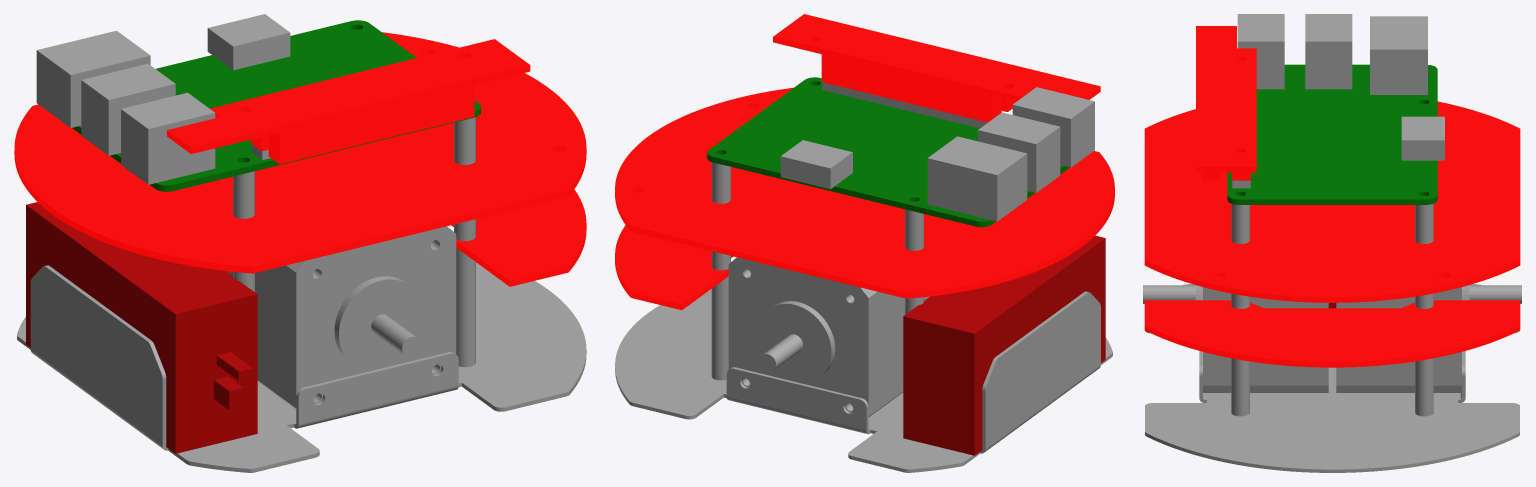
File: red_raspimouse_body.dae
3 renders of one model, left to right at view 1: azimuth 30°, elevation 25°; view 2: azimuth 150°, elevation 25°; view 3: azimuth 270°, elevation 25°, orthographic. The views are drawn at different scales.
Parts seen in each view (by area): view 1: RasPiMouse_body_gray, RasPiMouseCircuitMainBoard, RaspberryPiMouseBattery, RasPiMouseCircuitConnectorBoard, RasPiMouse_body_green, RasPiMouseCircuitSensorBoard; view 2: RasPiMouse_body_gray, RasPiMouseCircuitMainBoard, RaspberryPiMouseBattery, RasPiMouse_body_green, RasPiMouseCircuitConnectorBoard, RasPiMouseCircuitSensorBoard; view 3: RasPiMouse_body_gray, RasPiMouseCircuitMainBoard, RasPiMouse_body_green, RasPiMouseCircuitSensorBoard, RasPiMouseCircuitConnectorBoard.
Boxes of the visible parts, <box> form: RasPiMouse_body_gray: <box>17,14,586,472</box>; RasPiMouseCircuitMainBoard: <box>14,32,586,273</box>; RaspberryPiMouseBattery: <box>26,202,257,453</box>; RasPiMouseCircuitConnectorBoard: <box>167,39,530,164</box>; RasPiMouse_body_green: <box>72,20,480,191</box>; RasPiMouseCircuitSensorBoard: <box>451,189,586,286</box>; RasPiMouse_body_gray: <box>615,82,1112,472</box>; RasPiMouseCircuitMainBoard: <box>615,87,1114,298</box>; RaspberryPiMouseBattery: <box>903,235,1105,455</box>; RasPiMouse_body_green: <box>707,77,1069,227</box>; RasPiMouseCircuitConnectorBoard: <box>773,14,1100,122</box>; RasPiMouseCircuitSensorBoard: <box>615,225,732,310</box>; RasPiMouse_body_gray: <box>1143,14,1521,472</box>; RasPiMouseCircuitMainBoard: <box>1144,101,1520,302</box>; RasPiMouse_body_green: <box>1227,64,1437,204</box>; RasPiMouseCircuitSensorBoard: <box>1144,300,1520,367</box>; RasPiMouseCircuitConnectorBoard: <box>1196,26,1256,180</box>.
Size of the model in its own units: 0.13 by 0.101 by 0.0793.
